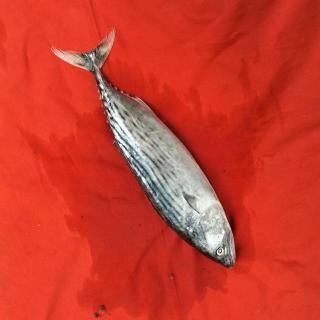Ikan: (48, 36, 244, 276)
